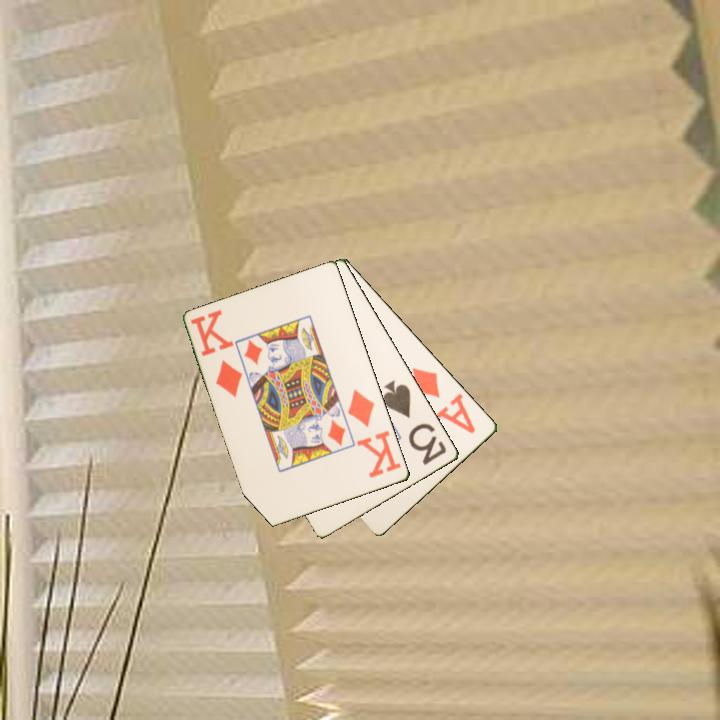3s: (379, 377, 450, 468)
Ad: (409, 364, 479, 437)
Kd: (344, 386, 404, 481), (187, 307, 246, 400)
